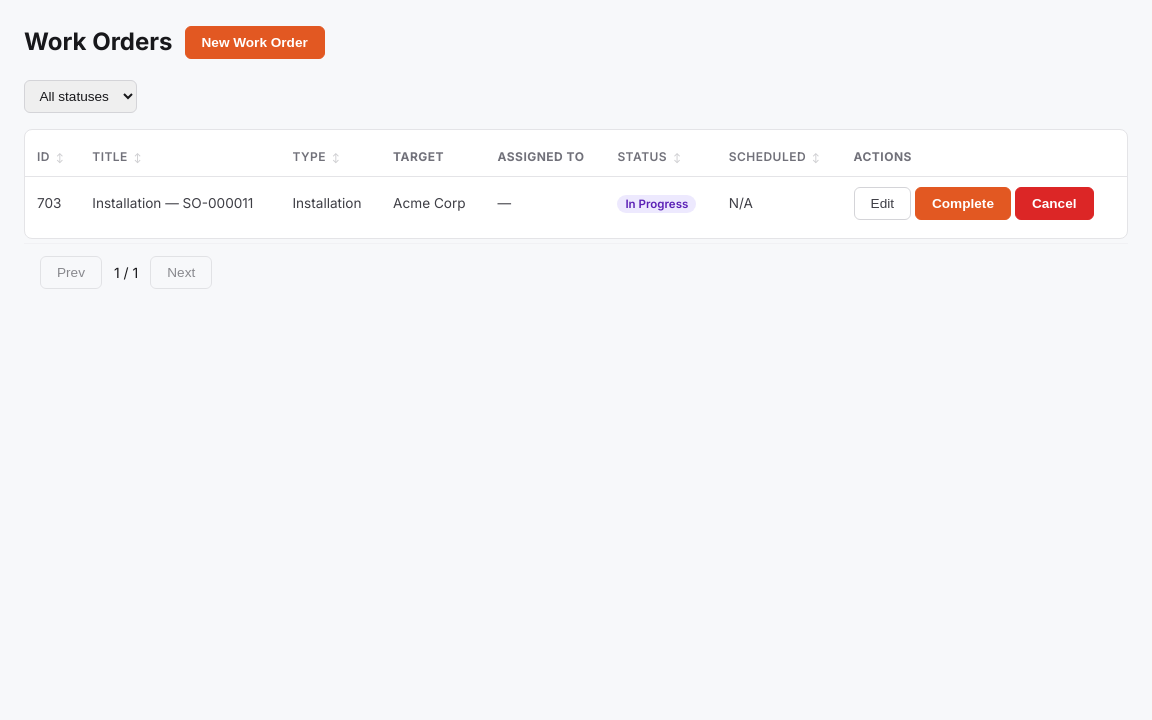
Scenario: WorkOrders — legal documents panel › keeps a visible close and retry path when document detail fails to load
Click the text "Installation — SO-000011": (180, 203) [80,176,280,230]
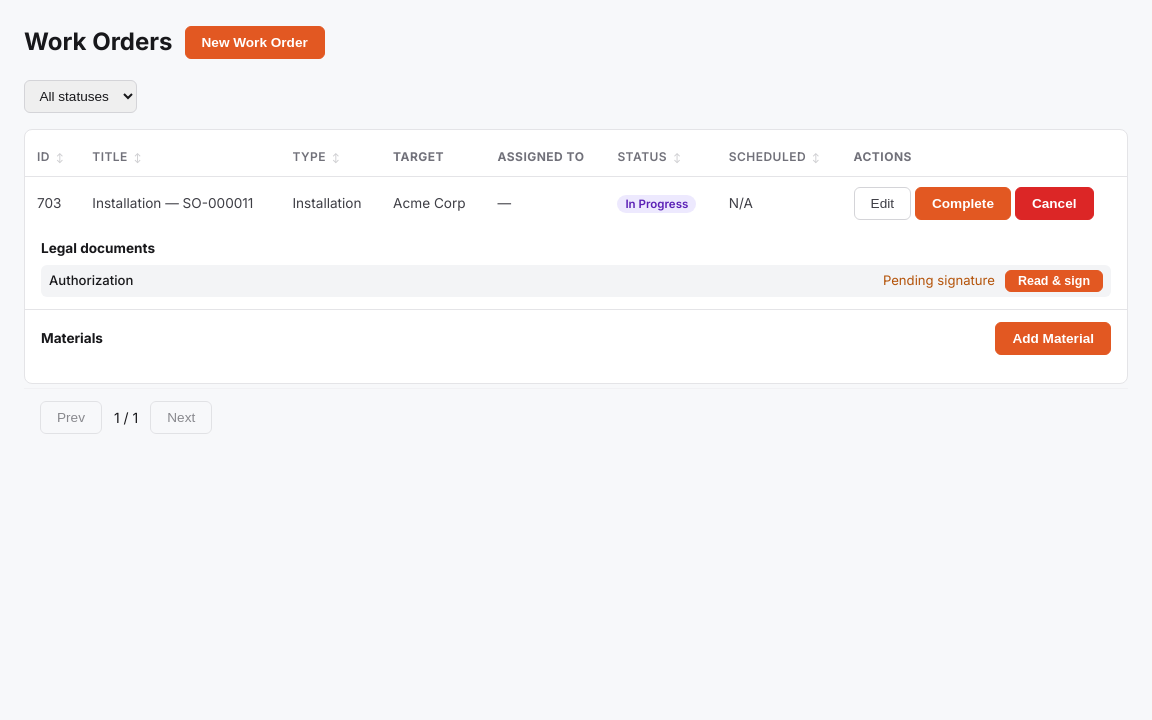
Click the button "Read & sign": (1054, 281) [1005,270,1103,292]
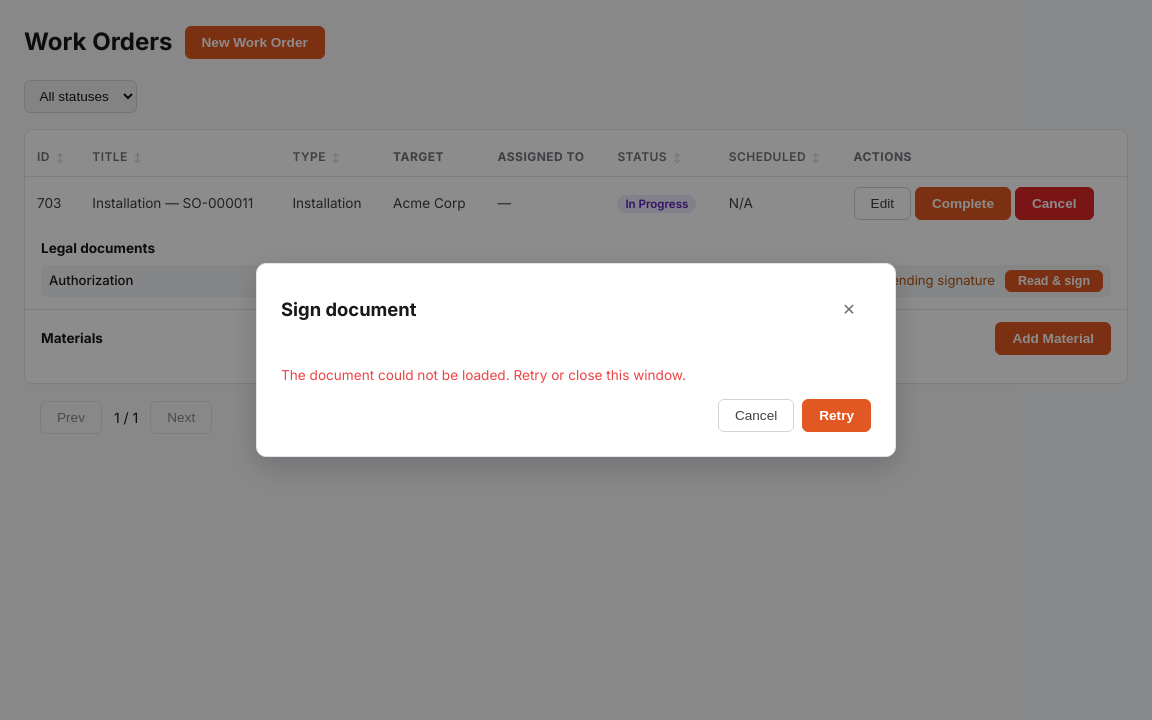
expect the message shows "could not be loaded": met, box [281,367,686,383]
expect the button "Retry" is shown: met, box [802,399,871,432]
Click the button named "Close": (849, 310) [827,288,871,332]
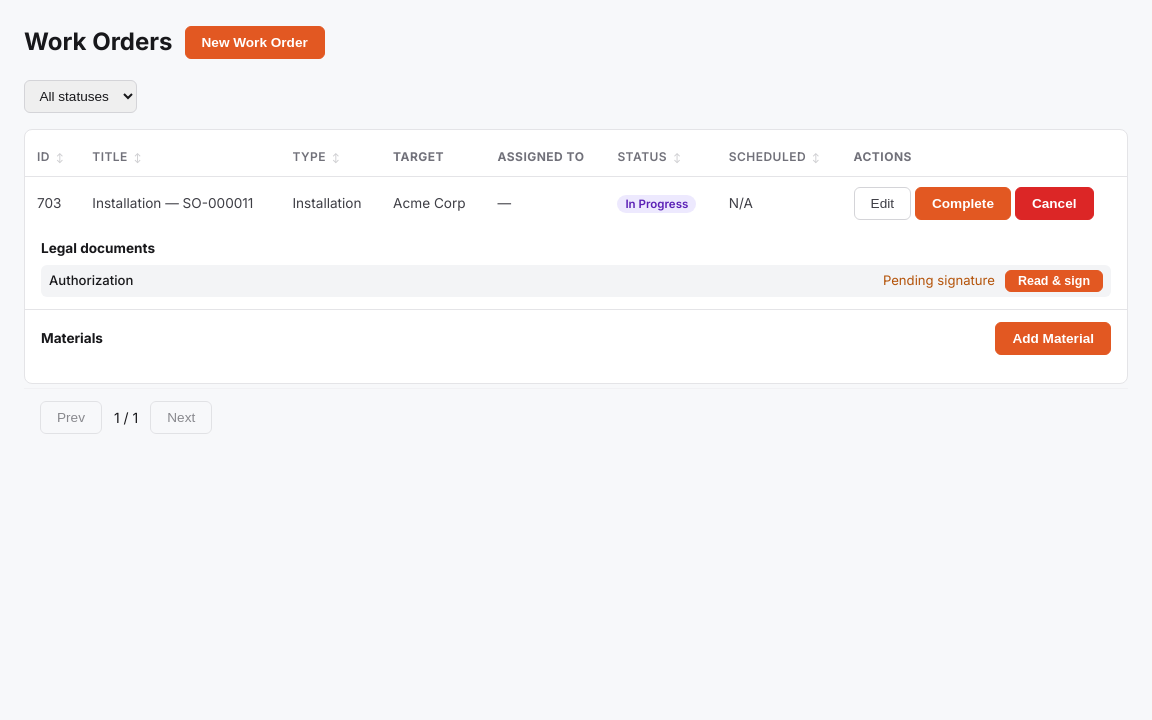
expect the heading "Sign document" is gone: met
